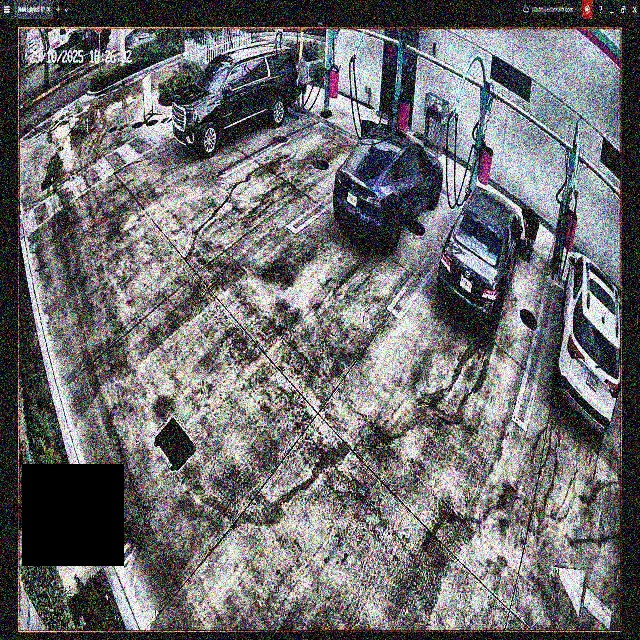Car: (170, 45, 300, 161), (333, 124, 443, 251), (438, 183, 522, 328)
